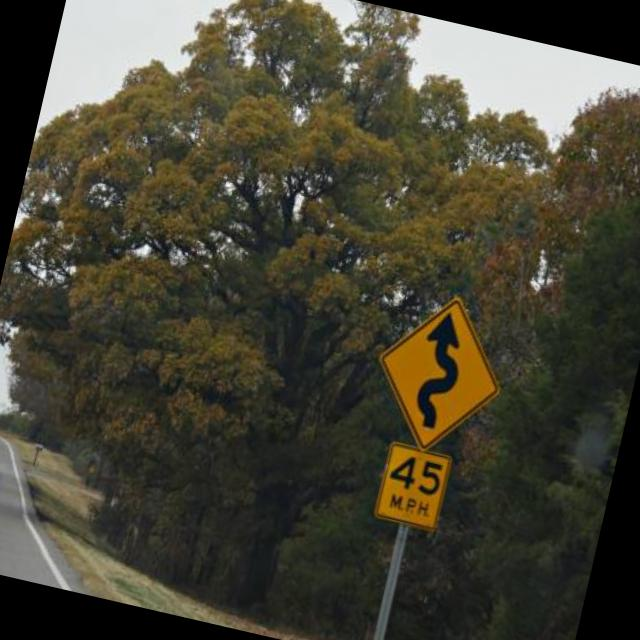left_sharp_curve: (358, 281, 532, 467)
